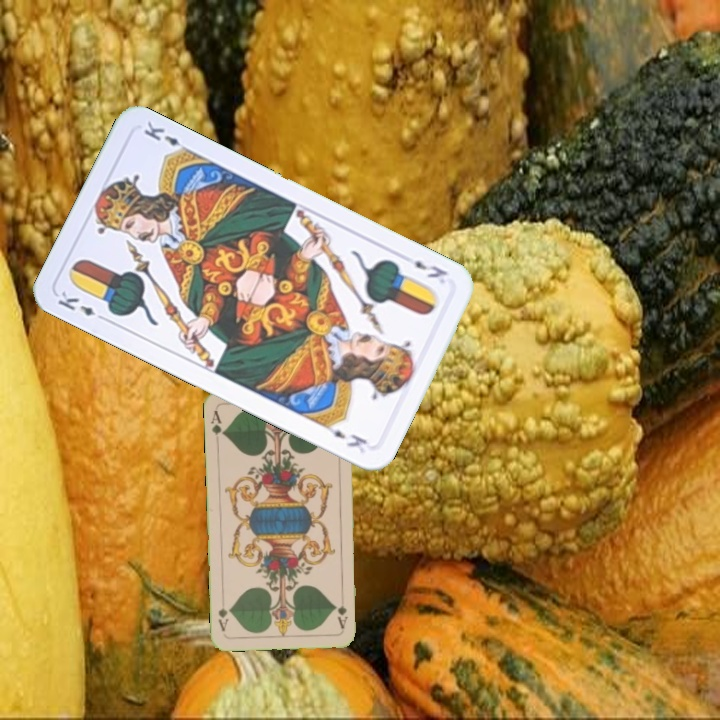EK: (54, 287, 110, 324), (410, 256, 450, 281)
GA: (333, 591, 350, 631), (207, 406, 227, 439)
